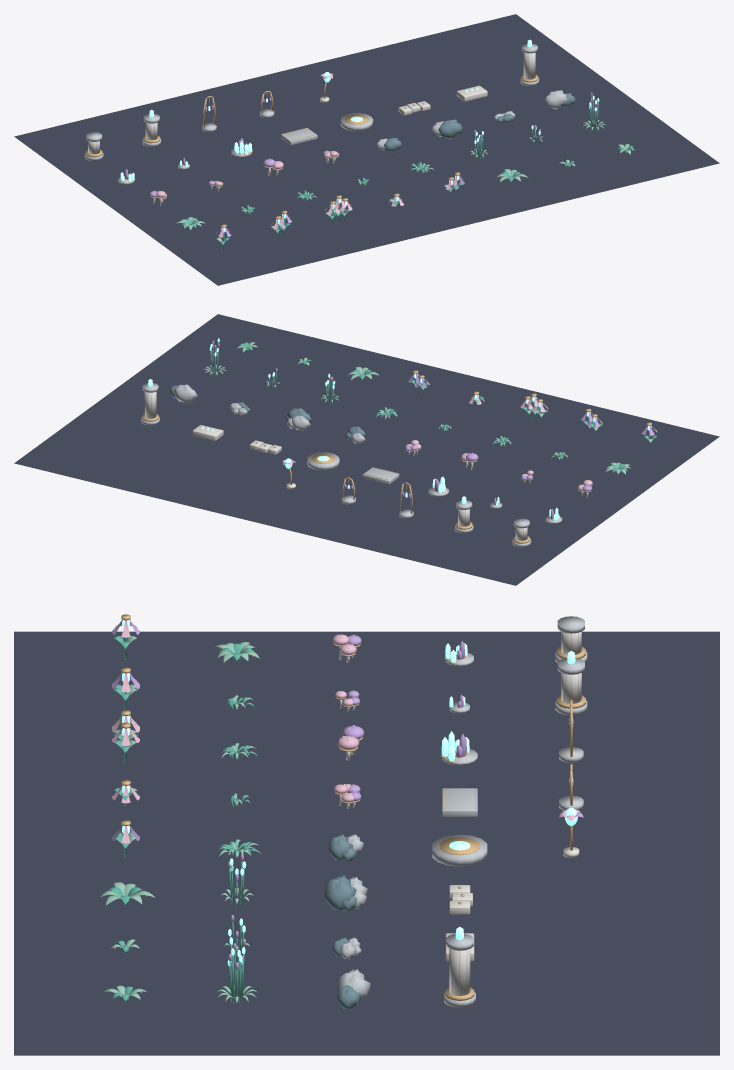
The model's file is harmonic-grove-37.glb.
3 views of the same model, one above another, from view 1: azimuth 30°, elevation 25°; view 2: azimuth 150°, elevation 25°; view 3: azimuth 270°, elevation 25° (orthographic). The views are drawn at different scales.
Visible parts, largest first — view 1: PREVIEW_ground; view 2: PREVIEW_ground; view 3: PREVIEW_ground, pearl_path_slab, round_resonance_step_base, pearl_column_shaft, jade_boulders_rock_2.
Part boxes in pixels (x1=…): PREVIEW_ground: x1=14, y1=14, x2=719, y2=285; PREVIEW_ground: x1=14, y1=314, x2=719, y2=585; PREVIEW_ground: x1=14, y1=631, x2=719, y2=1055; pearl_path_slab: x1=442, y1=788, x2=477, y2=816; round_resonance_step_base: x1=432, y1=834, x2=487, y2=866; pearl_column_shaft: x1=449, y1=949, x2=469, y2=995; jade_boulders_rock_2: x1=324, y1=875, x2=356, y2=911.
Bounding box in the file's own units: 27 × 2.36 × 19.
